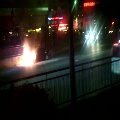fire: (16, 43, 36, 65)
